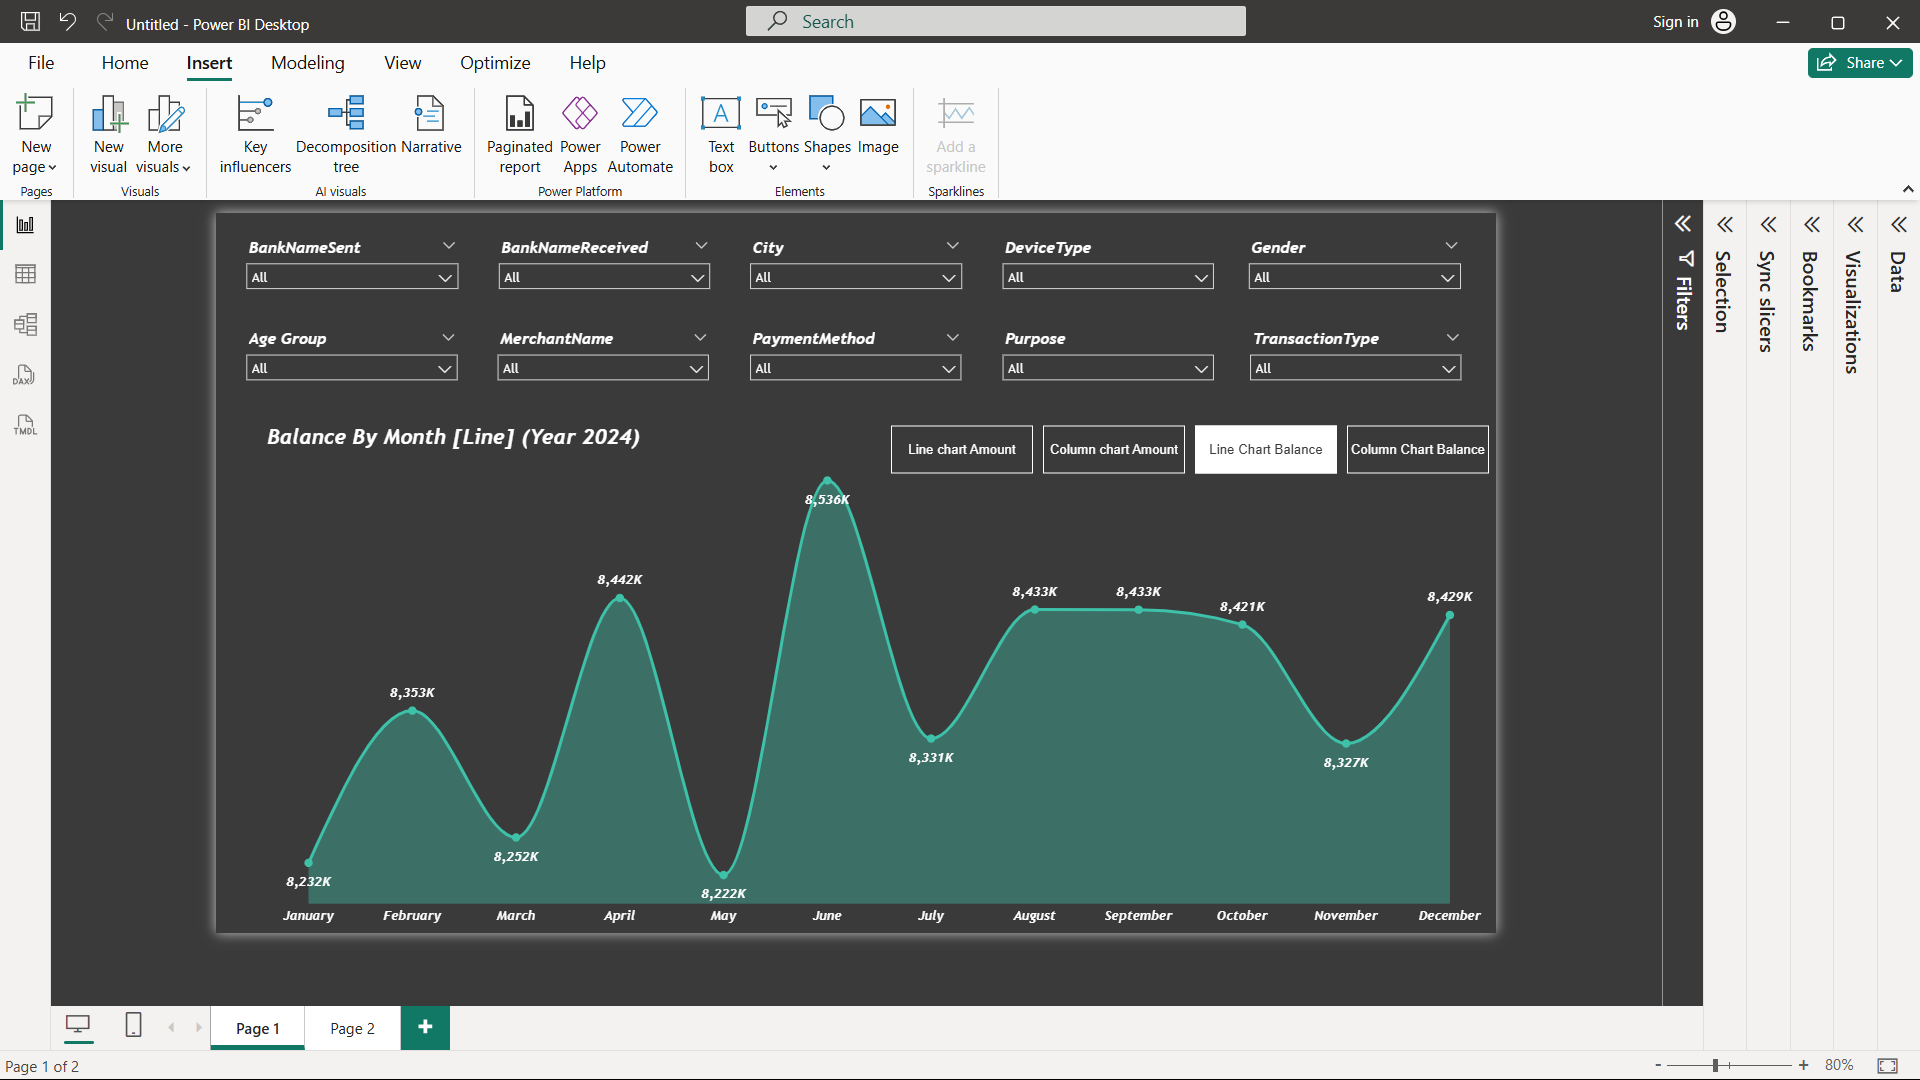

Layout of this report page (visuals, bound fields, positions):
{"tool":"powerbi","page":{"name":"Page 1","canvas":[1280,720],"ordinal":0},"visuals":[{"type":"slicer","fields":{"Values":["Sheet1.BankNameSent"]},"box":[20,20,232,80],"z":0},{"type":"slicer","fields":{"Values":["Sheet1.BankNameSent"]},"box":[272,20.6,231.9,79.6],"z":1000},{"type":"slicer","fields":{"Values":["Sheet1.BankNameSent"]},"box":[524,20.6,232,80],"z":2000},{"type":"slicer","fields":{"Values":["Sheet1.BankNameSent"]},"box":[776,20.6,231.9,79.6],"z":3000},{"type":"slicer","fields":{"Values":["Sheet1.BankNameSent"]},"box":[1023,20.6,232,80],"z":4000},{"type":"slicer","fields":{"Values":["Sheet1.BankNameSent"]},"box":[19.8,111.6,231.4,80.2],"z":4001},{"type":"slicer","fields":{"Values":["Sheet1.BankNameSent"]},"box":[271.7,111.1,231.9,79.6],"z":4002},{"type":"slicer","fields":{"Values":["Sheet1.BankNameSent"]},"box":[524.2,111.1,231.9,79.6],"z":4003},{"type":"slicer","fields":{"Values":["Sheet1.BankNameSent"]},"box":[776.7,111.1,231.9,79.6],"z":4004},{"type":"slicer","fields":{"Values":["Sheet1.BankNameSent"]},"box":[1023.7,111.1,231.9,79.6],"z":4005}]}

Visuals, with their boxes on the page's 1280x720 design canvas (x1, y1, x2, y2). These are canvas units, not pixel positions in the 1920x1080 screenshot, which may show the page scaled, cropped or inside an application window:
slicer - Sheet1.BankNameSent: <box>20,20,252,100</box>
slicer - Sheet1.BankNameSent: <box>272,21,504,100</box>
slicer - Sheet1.BankNameSent: <box>524,21,756,101</box>
slicer - Sheet1.BankNameSent: <box>776,21,1008,100</box>
slicer - Sheet1.BankNameSent: <box>1023,21,1255,101</box>
slicer - Sheet1.BankNameSent: <box>20,112,251,192</box>
slicer - Sheet1.BankNameSent: <box>272,111,504,191</box>
slicer - Sheet1.BankNameSent: <box>524,111,756,191</box>
slicer - Sheet1.BankNameSent: <box>777,111,1009,191</box>
slicer - Sheet1.BankNameSent: <box>1024,111,1256,191</box>
